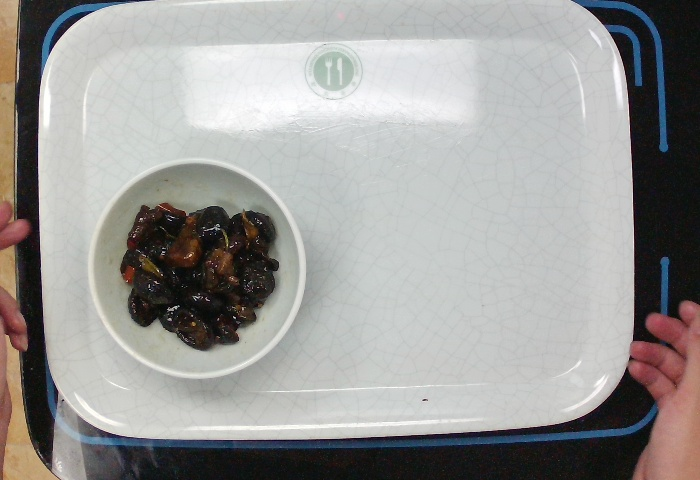JYsf-Fan_Wan: (84, 156, 309, 381)
